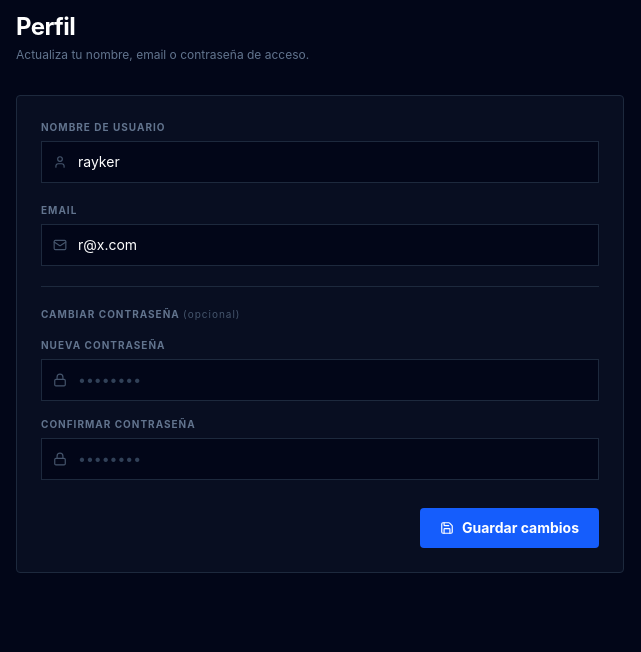
ProfileSettings › submit OK: muestra banner de éxito y limpia los campos de contraseña
Expected: the field showing "rayker" below "Nombre de usuario" is shown, [41,141,599,183]
Click the button "Guardar cambios": (510, 528) [420,508,599,548]
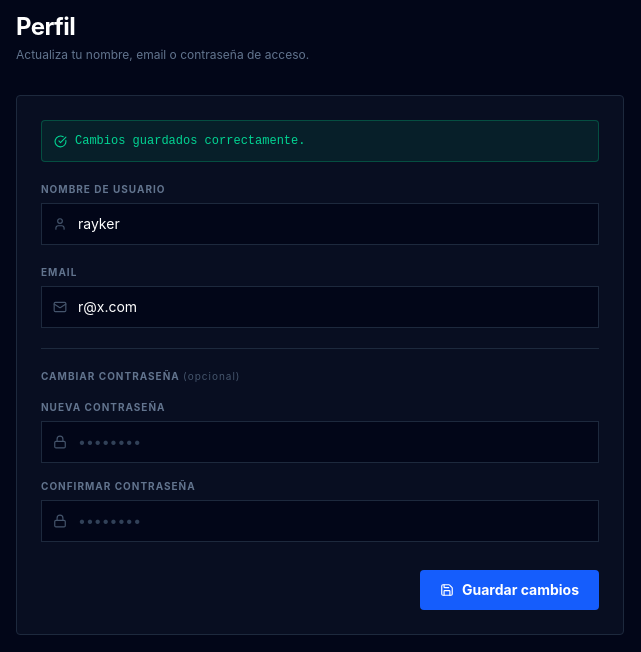
Expected: the password field with placeholder "••••••••" below "Nueva contraseña" is empty, [41,421,599,463]
Expected: the text "Cambios guardados correctamente." is shown, [41,120,599,162]
